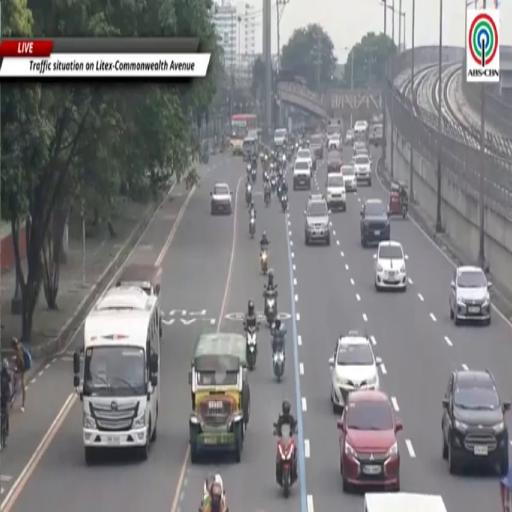bus: (230, 115, 257, 154)
car: (442, 370, 510, 474), (337, 391, 402, 491), (329, 331, 381, 412), (450, 266, 491, 325), (374, 240, 407, 291), (360, 199, 390, 247), (304, 195, 330, 245), (327, 172, 346, 211), (211, 183, 232, 214), (293, 159, 311, 190), (354, 155, 371, 185), (340, 165, 358, 192), (297, 148, 315, 170), (327, 151, 342, 173), (310, 135, 323, 159), (369, 124, 383, 146), (274, 128, 287, 147), (354, 121, 368, 136), (328, 134, 341, 150), (353, 139, 366, 154), (355, 148, 371, 159), (344, 130, 354, 145)
jeepney: (189, 333, 250, 462), (116, 264, 161, 297), (117, 264, 161, 295), (243, 137, 257, 162)
motorcycle: (274, 424, 297, 498), (245, 326, 258, 371), (264, 285, 276, 326), (273, 346, 285, 381), (260, 248, 268, 275), (249, 214, 256, 239), (246, 184, 252, 206), (264, 187, 270, 206), (281, 194, 287, 212), (251, 155, 257, 170), (277, 183, 282, 200), (271, 174, 276, 191), (282, 154, 287, 169), (251, 168, 256, 183), (264, 171, 269, 182)
tricycle: (388, 182, 408, 218)
truck: (73, 285, 161, 463)
